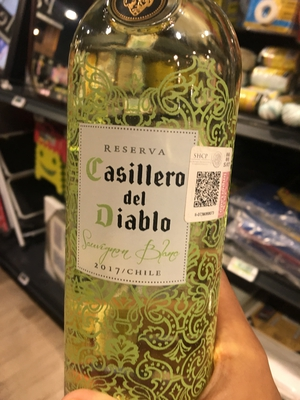casillero del diablo sauvignon blanc: (56, 11, 242, 400)
